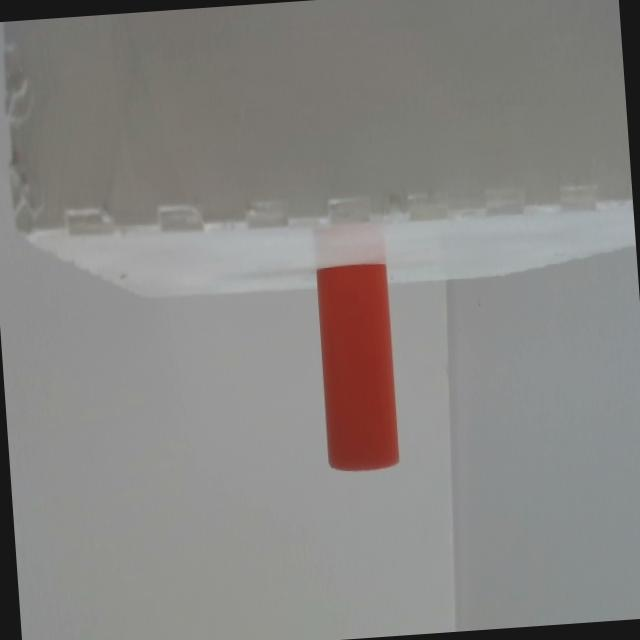red_cylinder: (314, 262, 400, 474)
